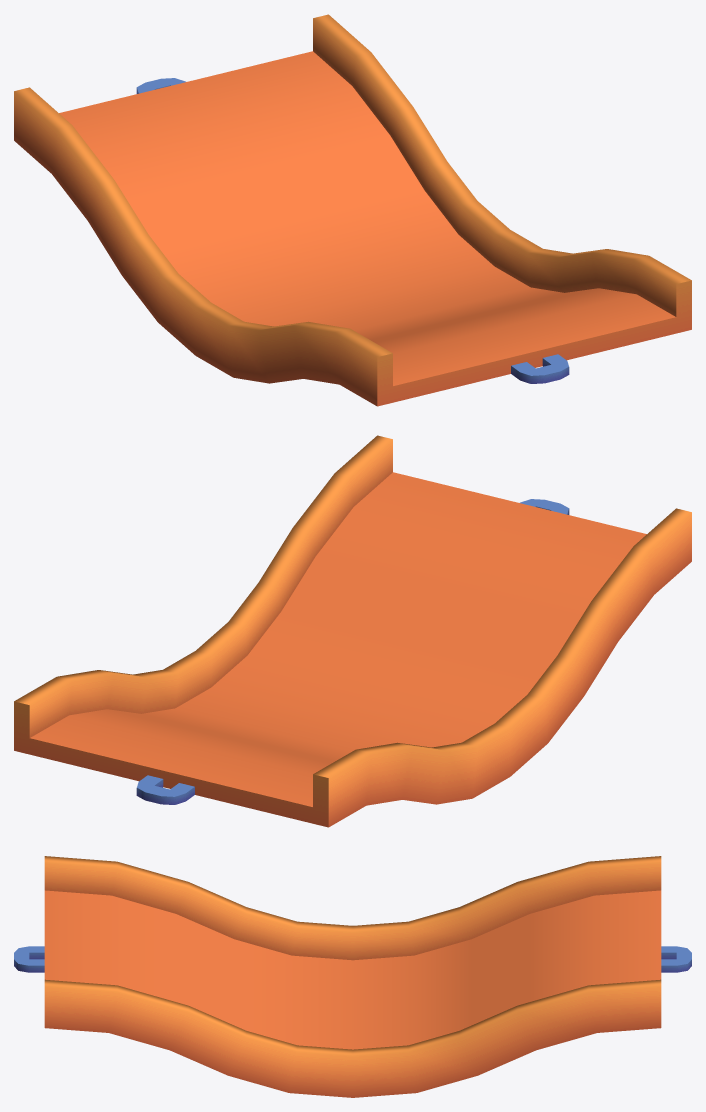
Rendered from track-wide-straight-bump-down.glb.
3 renders of one model, top to bottom at view 1: azimuth 30°, elevation 25°; view 2: azimuth 150°, elevation 25°; view 3: azimuth 270°, elevation 25°, orthographic. The views are drawn at different scales.
Parts seen in each view (by area): view 1: track-wide-straight-bump-down; view 2: track-wide-straight-bump-down; view 3: track-wide-straight-bump-down.
Boxes of the visible parts, <box> form: track-wide-straight-bump-down: <box>14,14,691,406</box>; track-wide-straight-bump-down: <box>14,435,691,827</box>; track-wide-straight-bump-down: <box>14,856,691,1097</box>.
Size of the model in its own units: 2 by 0.8 by 4.4.
Materials: 1 (1 with a texture image).
